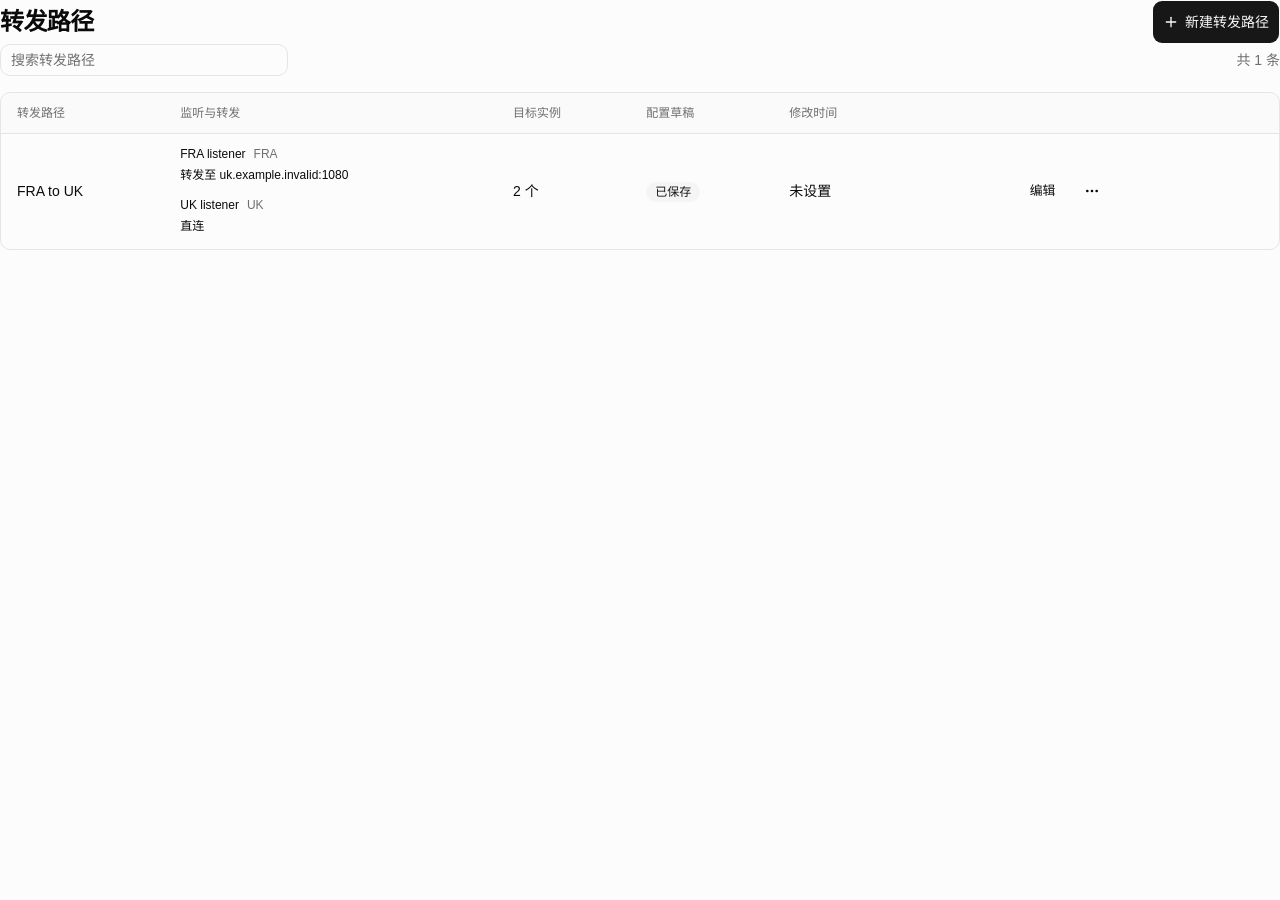
Test case: requires a new confirmation when the catalog changes after comparison
The width and height of the screenshot is (1280, 900).
What coordinates should you click on to do the following:
click the button with aria-label "编辑转发路径 FRA to UK"
I would click on:
 (1043, 191)
Its box is [1019,169,1066,213].
(page scrolled)
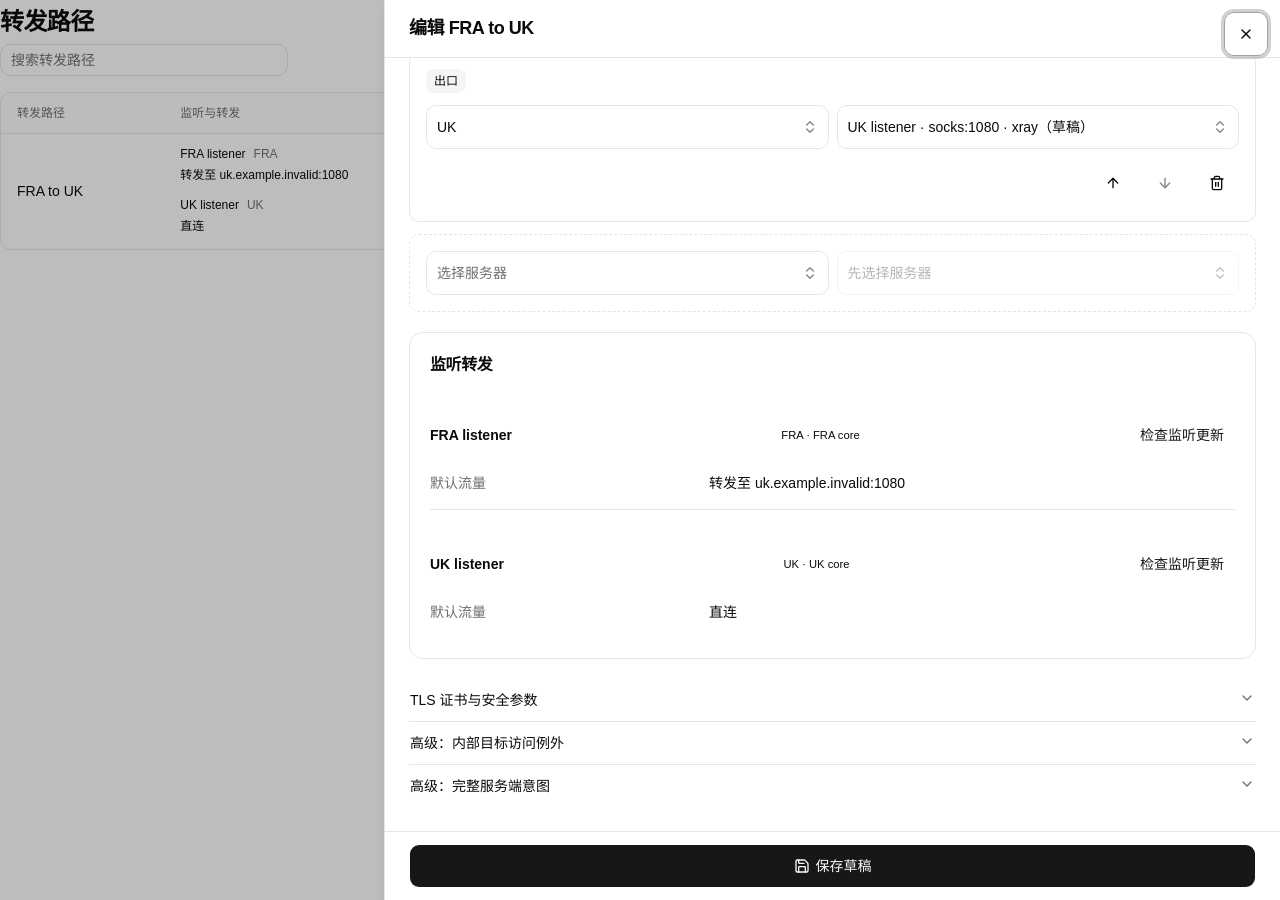
What coordinates should you click on to do the following:
click the button with aria-label "检查监听更新 UK listener"
I would click on:
 (1182, 564)
Its box is [1129,542,1235,586].
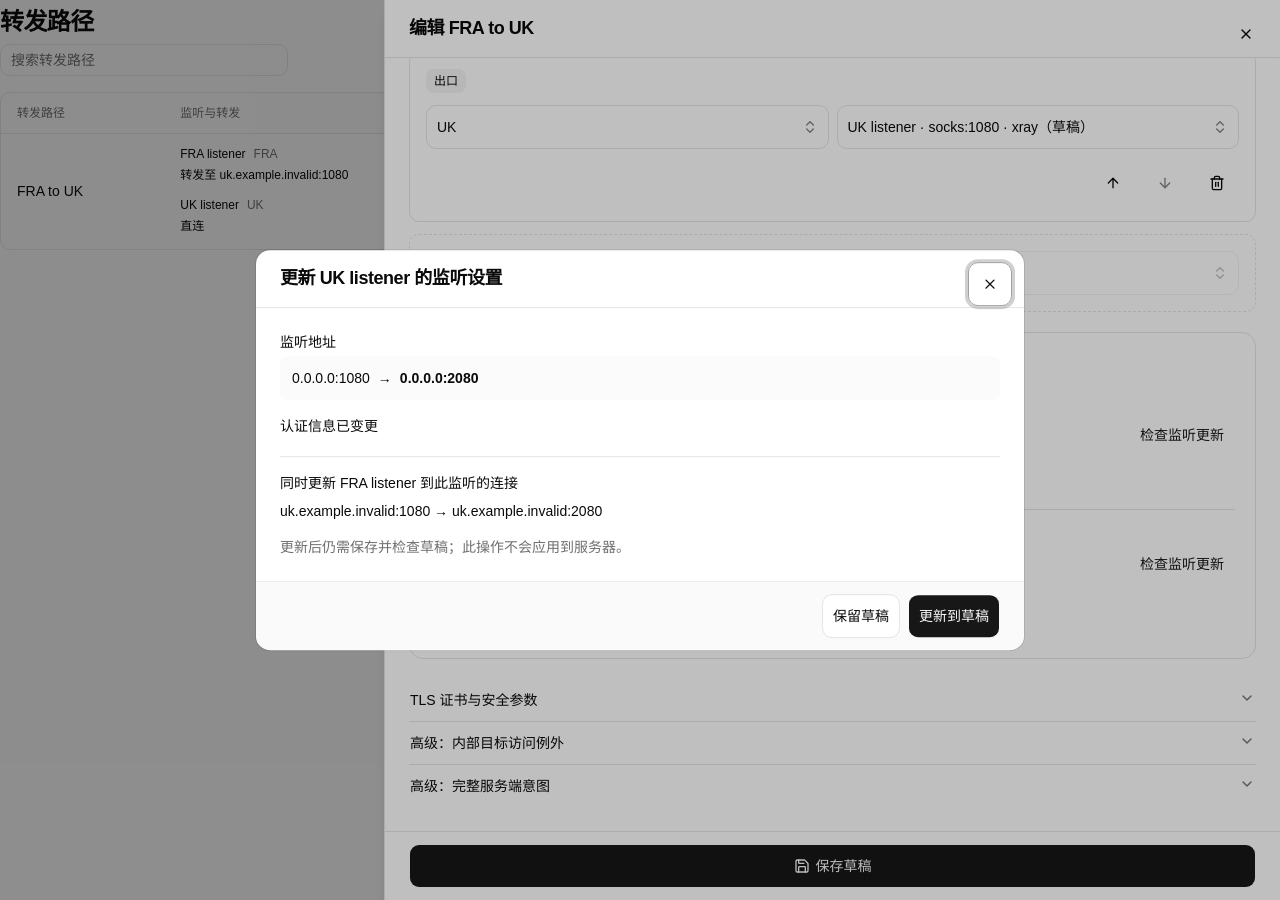
Result: the text "认证信息已变更" is shown at [280,418,378,434]
Result: the button "更新到草稿" is enabled
What coordinates should you click on to do the following:
click the button "更新到草稿"
I would click on:
 (954, 616)
Its box is [908,594,1000,638].
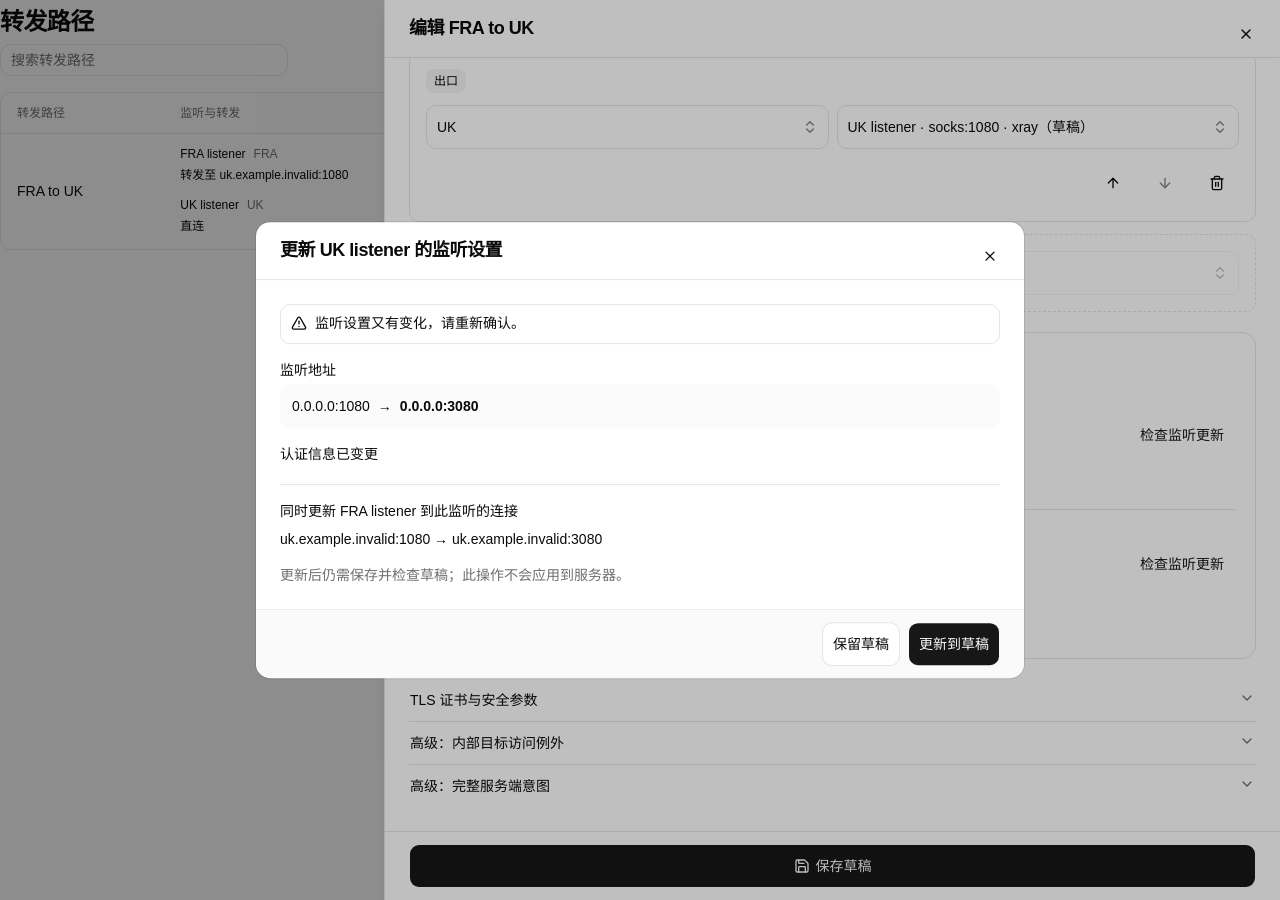
Result: the button "更新到草稿" is enabled
Result: the text "监听设置又有变化，请重新确认。" is shown at [315,315,525,331]
What coordinates should you click on to do the following:
click the button "更新到草稿"
I would click on:
 (954, 644)
Its box is [908,622,1000,666].
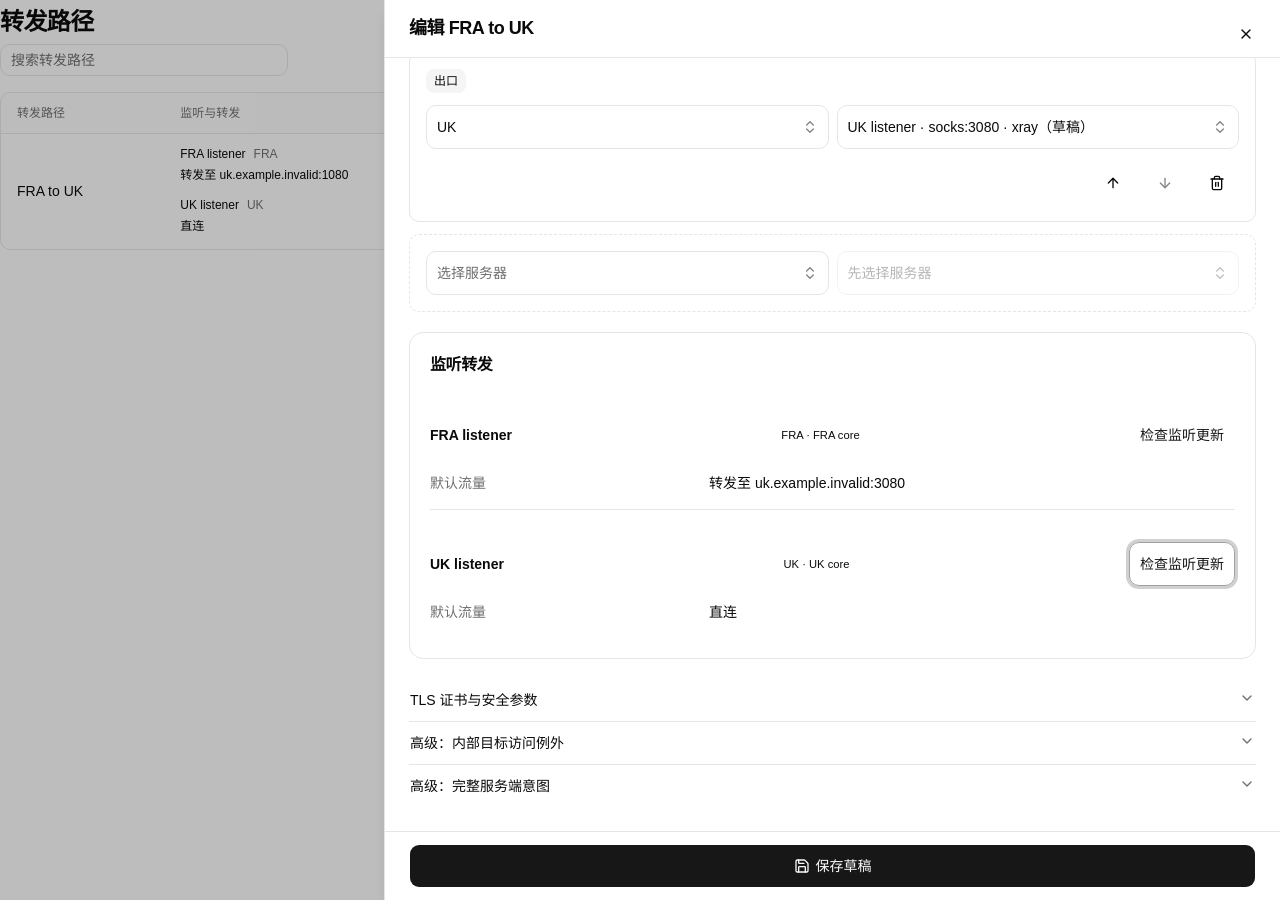
Result: the text "转发至 uk.example.invalid:3080" is shown at [709,475,905,491]
